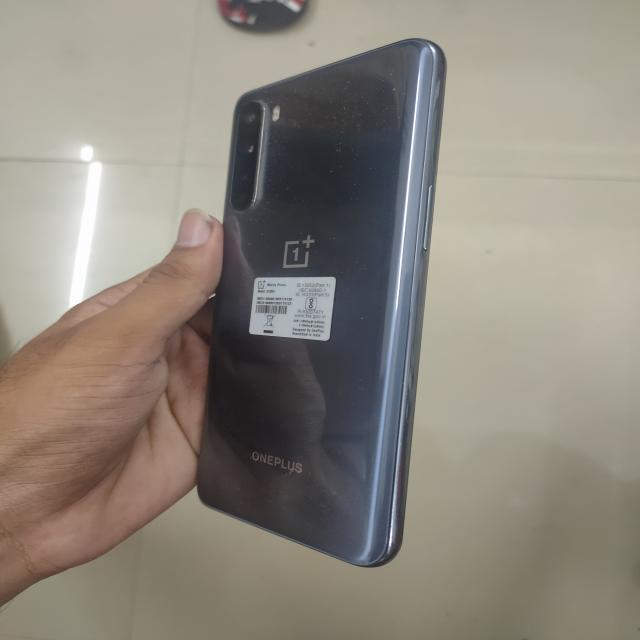Phone: (194, 36, 448, 571)
